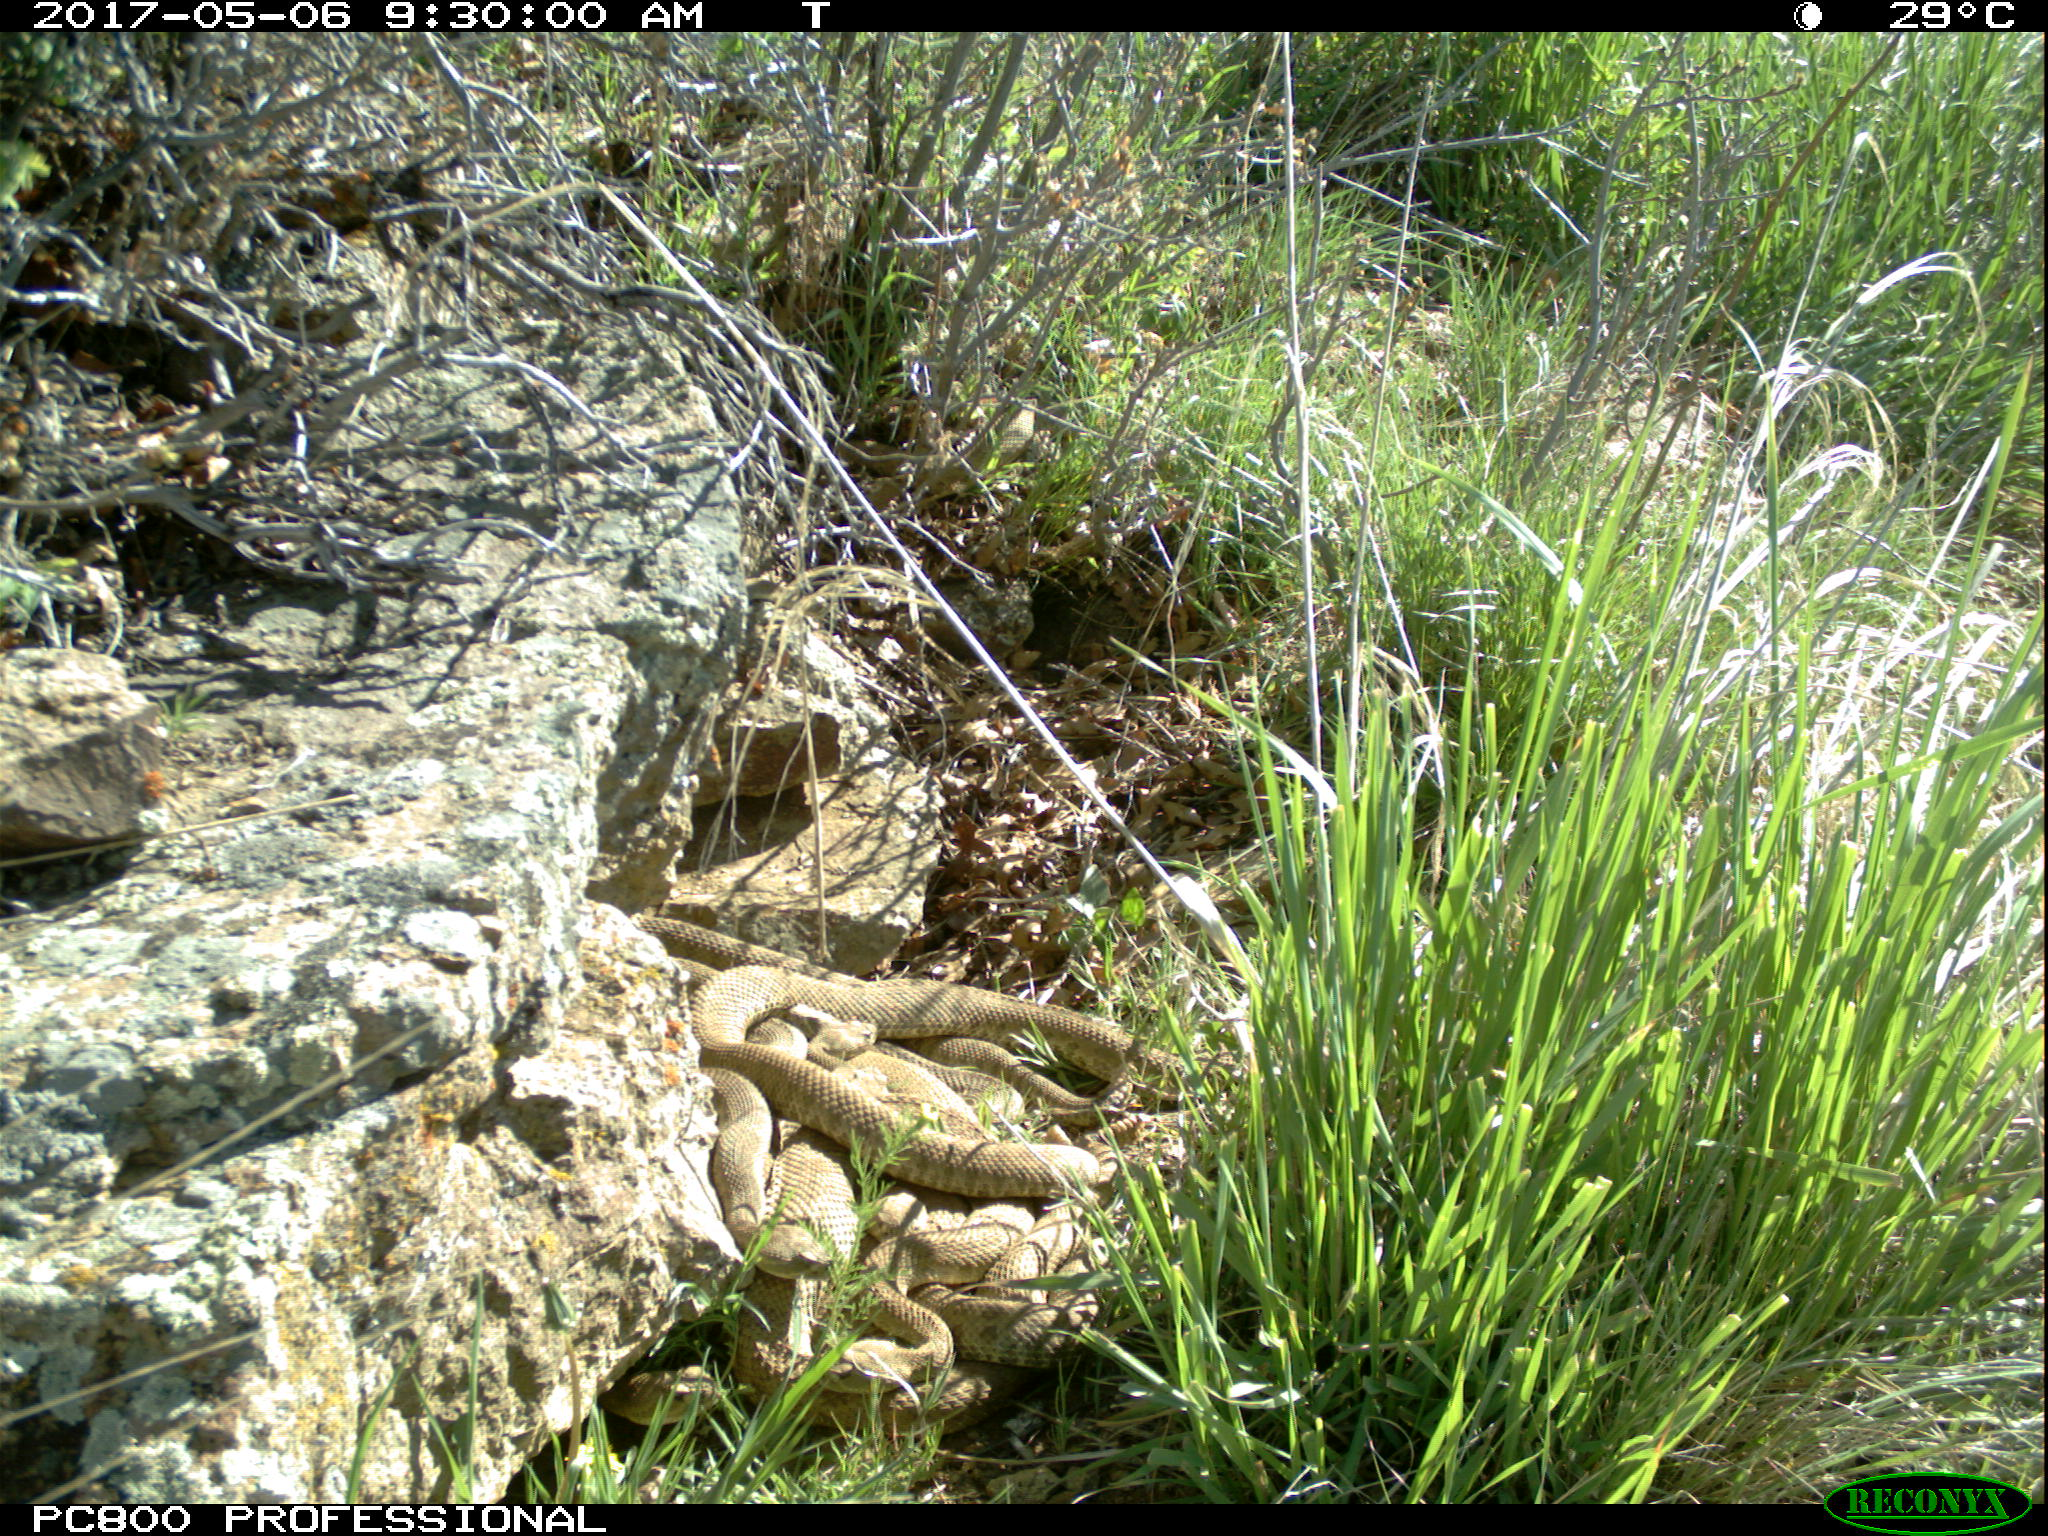snake: (692, 965, 1197, 1199), (693, 962, 837, 1299), (801, 1070, 1130, 1208), (834, 1215, 1106, 1368), (719, 1300, 1024, 1434), (640, 913, 826, 978), (606, 1359, 737, 1431)
